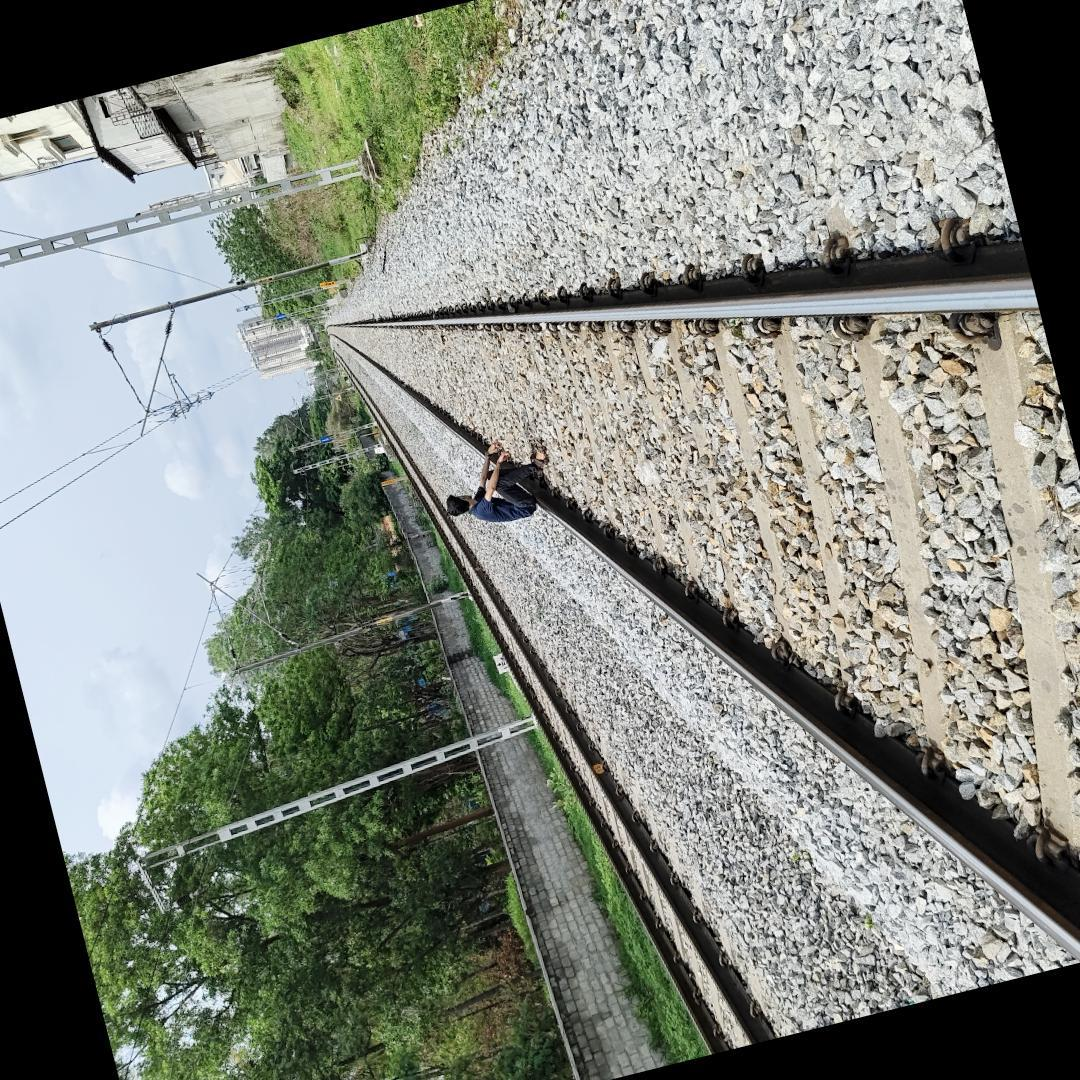sitting: (441, 436, 553, 529)
track: (318, 228, 1080, 967)
